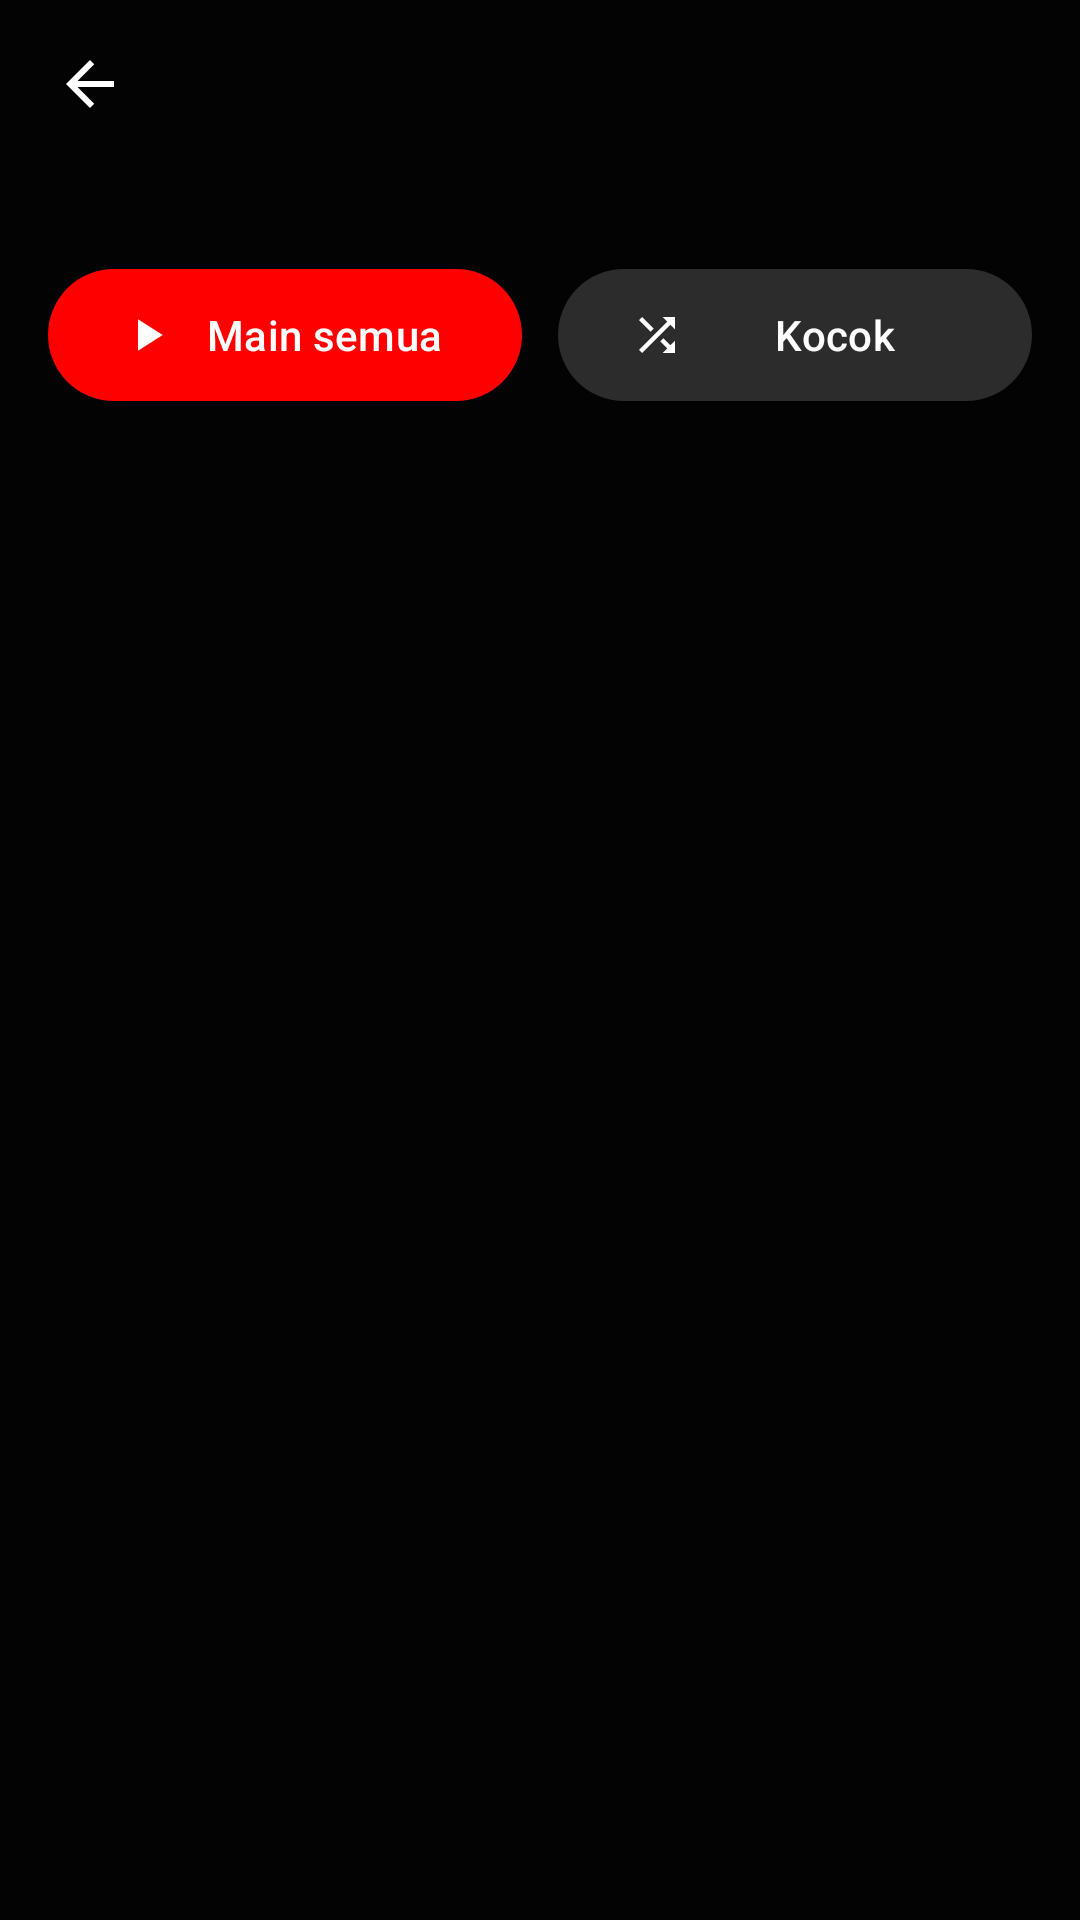

Where to tap for icons on this 1080px×1920px app screen, as [x,y]:
back: [90,84]
